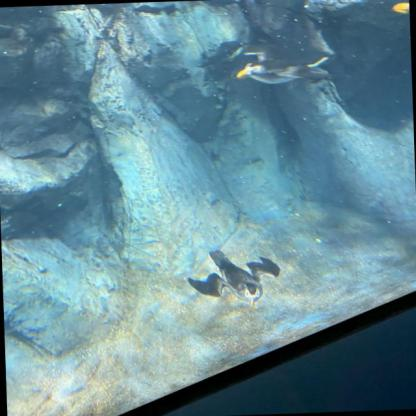puffin: (186, 247, 281, 311), (234, 44, 334, 86), (390, 0, 410, 27)
